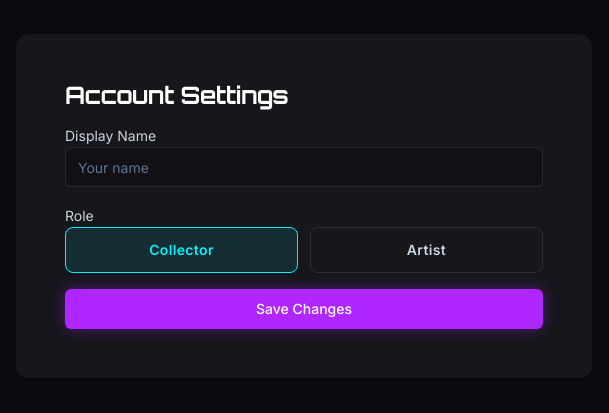
Test: AccountPage in Normal Mode › should show error message for empty display name on submit
Click the button "Save Changes": (304, 309) [65,289,543,329]
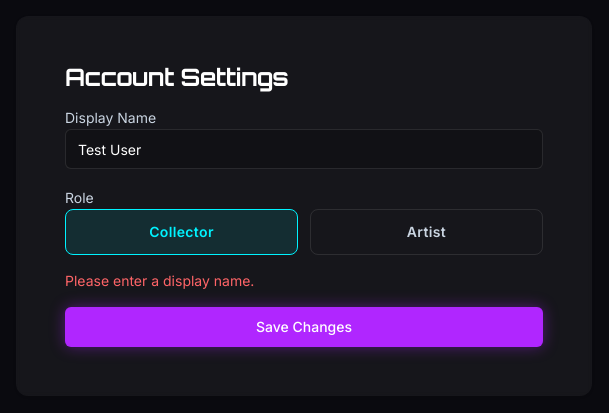
expect the text "Please enter a display name." is shown: met, box [65,272,254,289]
